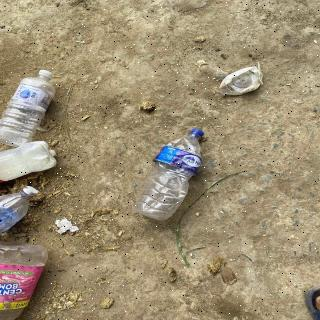Plastic-bottle: (134, 128, 208, 223), (1, 68, 60, 150), (1, 140, 61, 187), (1, 184, 44, 236)
